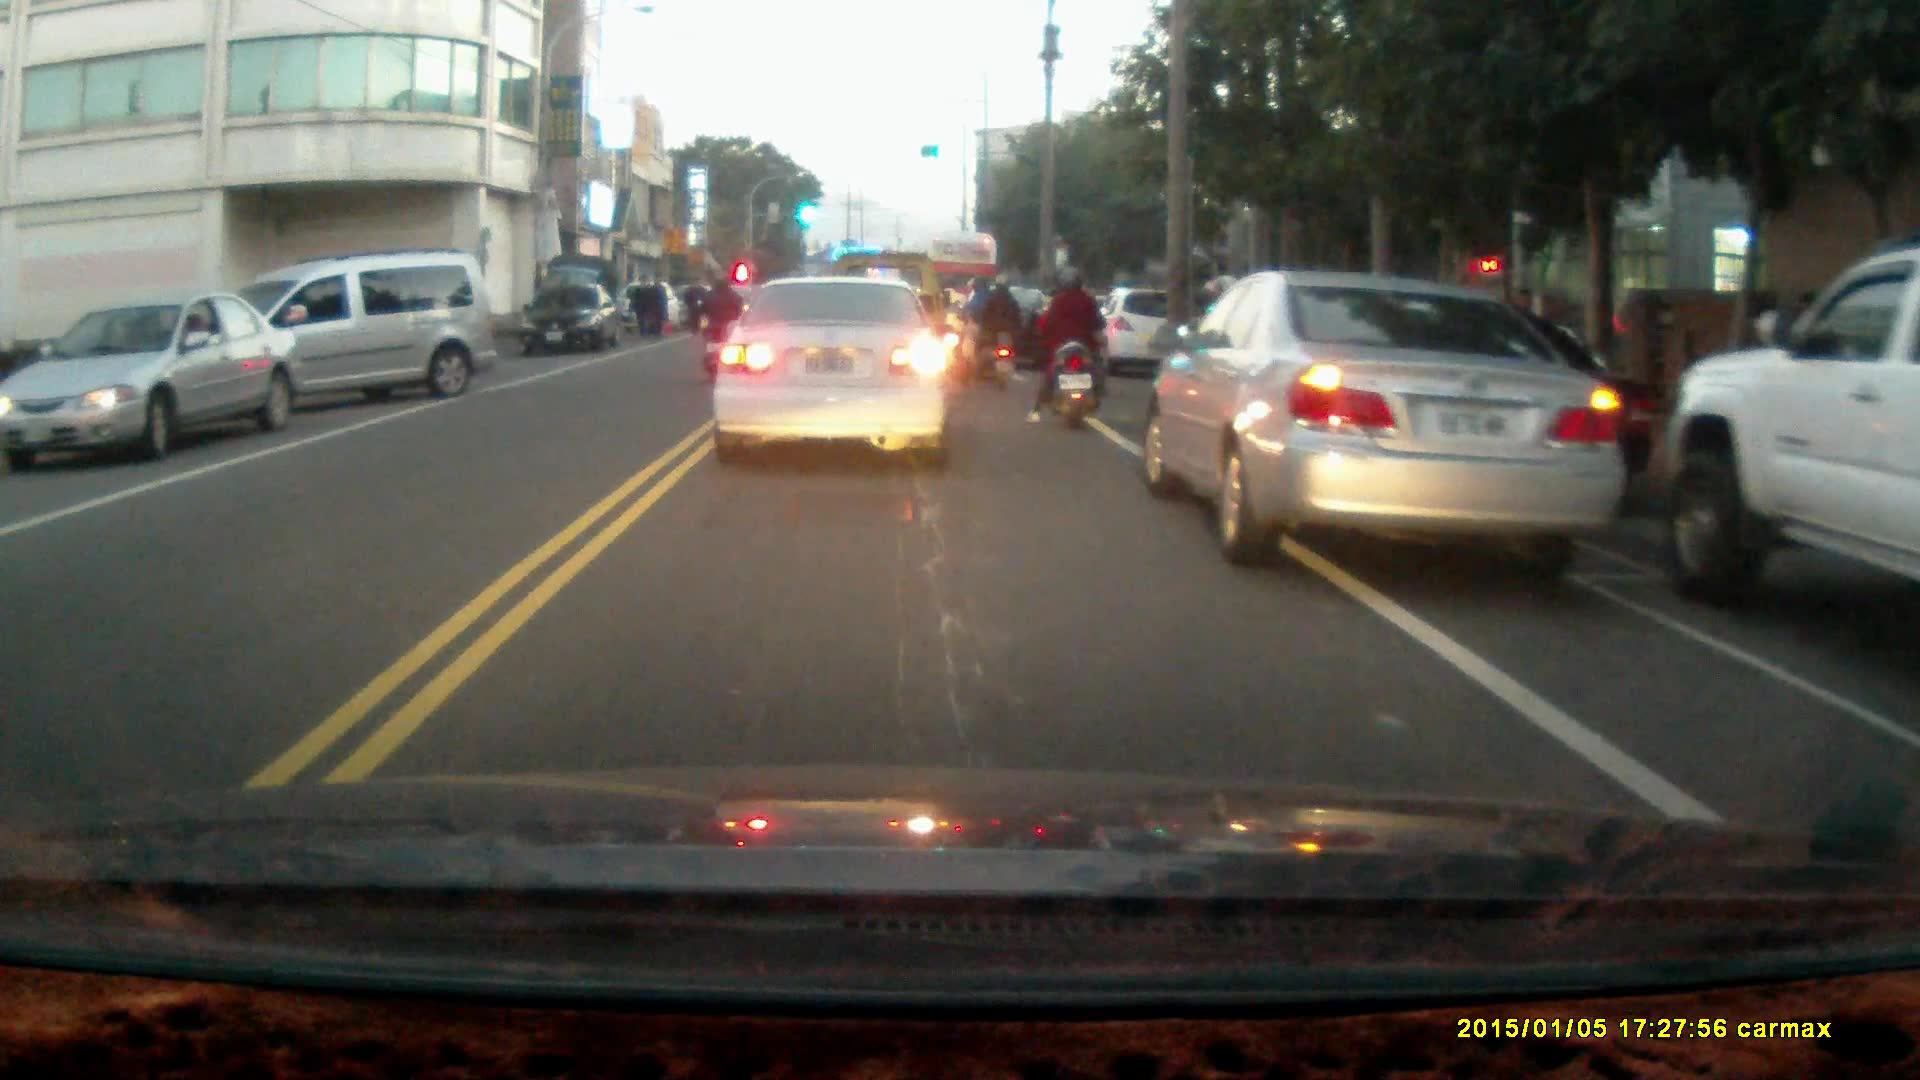pedestrian: (627, 271, 653, 339), (680, 274, 708, 337), (646, 270, 666, 342)
rider: (1024, 264, 1112, 432), (955, 268, 1024, 389), (699, 271, 743, 380)
vehicle: (1139, 264, 1619, 570), (1659, 245, 1920, 610), (184, 252, 504, 427), (2, 294, 293, 471), (710, 274, 955, 471), (522, 281, 622, 356)
